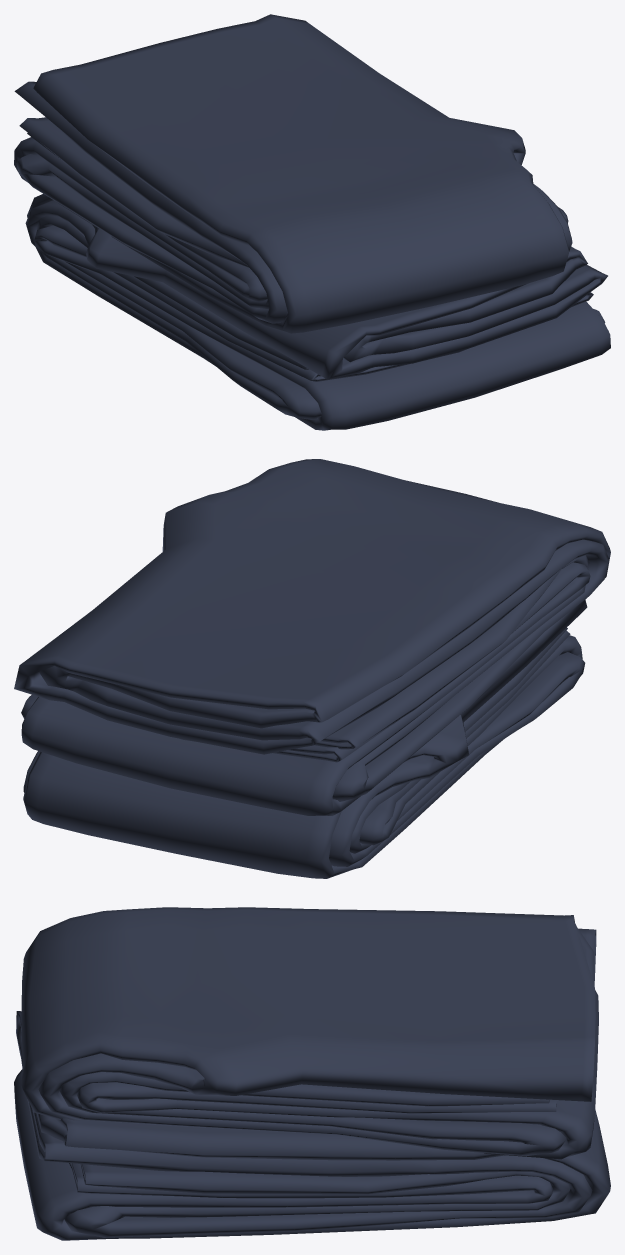
The model's file is Folded_Pant25.fbx.
The picture shows the model from 3 angles, top to bottom: view 1: azimuth 30°, elevation 25°; view 2: azimuth 150°, elevation 25°; view 3: azimuth 270°, elevation 25°; orthographic projection. The views are drawn at different scales.
Parts seen in each view (by area): view 1: Folded_Pant25; view 2: Folded_Pant25; view 3: Folded_Pant25.
Boxes of the visible parts, box(x1,y1,x2,y2) form: Folded_Pant25: box(14, 14, 610, 430); Folded_Pant25: box(14, 459, 610, 878); Folded_Pant25: box(14, 907, 610, 1240).
Size of the model in its own units: 25.02 by 11.51 by 34.5.
Materials: 1 (1 with a texture image).
